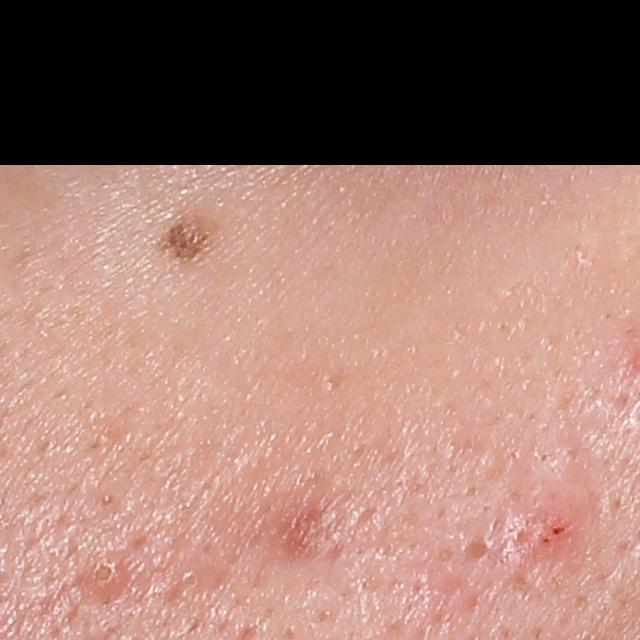comedo: (80, 552, 125, 600), (454, 531, 497, 575)
nevus: (144, 211, 217, 264)
